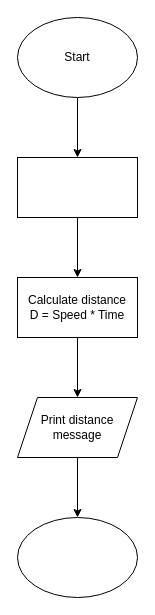
Some shapes in this 155 by 615 pixel diagram are drawn without their labels. Here are the shapes that lost their labels. From the top down, the centre of each, then its label:
[77,187]: Set MPH to 70
[77,557]: End
